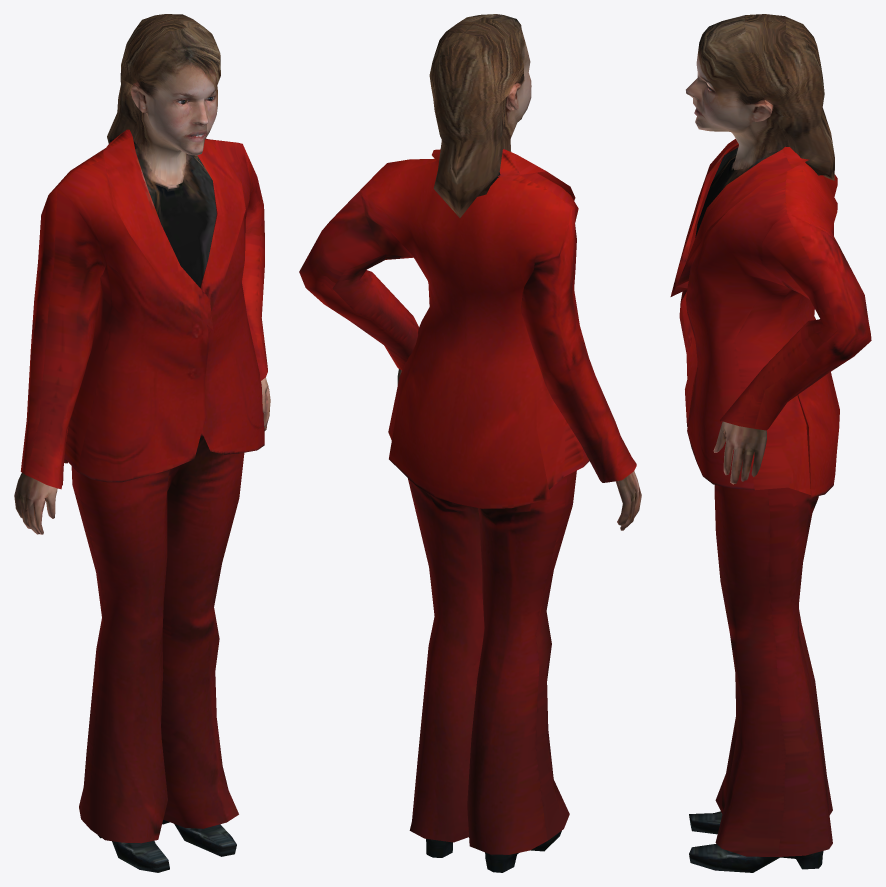
File: 白领女.gltf
3 renders of one model, left to right at view 1: azimuth 30°, elevation 25°; view 2: azimuth 150°, elevation 25°; view 3: azimuth 270°, elevation 25°, orthographic. The views are drawn at different scales.
Parts seen in each view (by area): view 1: Lo-BWomSt_01; view 2: Lo-BWomSt_01; view 3: Lo-BWomSt_01.
Part boxes in pixels (x1,y1,x2,y2): Lo-BWomSt_01: (14, 14, 270, 872); Lo-BWomSt_01: (299, 14, 641, 872); Lo-BWomSt_01: (670, 14, 871, 872).
Size of the model in its own units: 0.6266 by 1.71 by 0.3729.
1 material, 1 textured.
